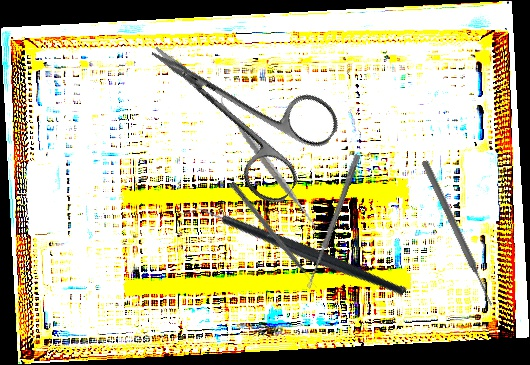Chopper: (178, 141, 409, 363)
Iris Scissors: (121, 0, 347, 211)
Pusher: (419, 159, 497, 309), (228, 180, 319, 291)
Spatula Surgical: (195, 91, 341, 236)
Surgical Spoon: (305, 153, 361, 290)
